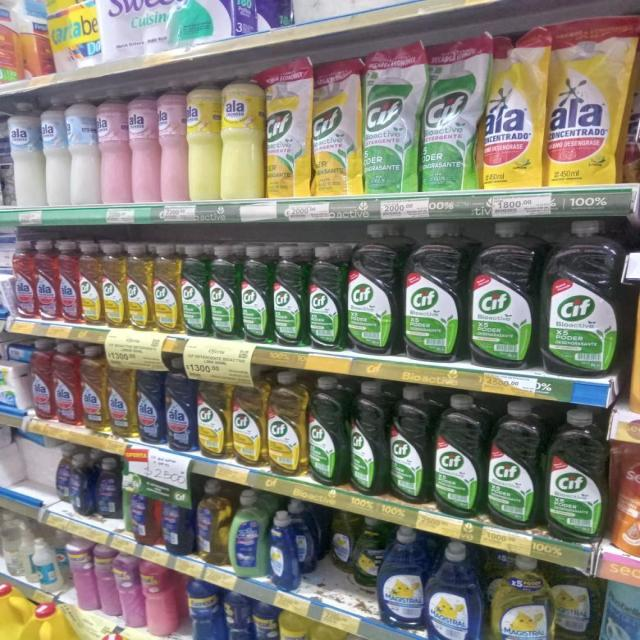ala_conc_amarillo: (108, 350, 135, 440), (80, 346, 107, 434)
ala_conc_azul: (165, 358, 195, 454), (136, 355, 163, 446)
ala_conc_rojo: (53, 342, 79, 427), (29, 341, 52, 422), (13, 240, 35, 320), (36, 240, 57, 322), (59, 240, 78, 324)
ala_crem_amarillo: (221, 69, 263, 200), (187, 74, 220, 202)
ala_crem_blanco: (9, 100, 42, 208), (69, 91, 98, 206), (42, 96, 69, 208), (0, 103, 10, 208)
ala_crem_rosado: (129, 85, 158, 205), (99, 87, 128, 205), (159, 80, 186, 203)
ala_sachet_amarillo: (547, 16, 628, 186), (481, 26, 545, 189)
cif_conc_bot_amarilla: (268, 370, 306, 478), (232, 367, 265, 468), (197, 366, 230, 460), (153, 243, 180, 334), (126, 243, 152, 332), (102, 242, 125, 329), (80, 240, 101, 326)
cif_conc_botella_verde: (541, 218, 622, 377), (468, 220, 536, 370), (403, 222, 464, 363), (546, 408, 608, 542), (486, 400, 541, 530), (347, 224, 400, 356), (433, 393, 484, 518), (389, 385, 431, 505), (308, 376, 348, 488), (350, 379, 387, 497), (308, 244, 345, 352), (273, 244, 306, 348), (241, 245, 271, 344), (209, 244, 239, 340), (181, 244, 208, 338)
cif_conc_sachet_amarillo: (312, 57, 361, 197), (265, 59, 311, 198)
cif_conc_sachet_verde: (421, 34, 480, 192), (363, 42, 419, 195)
magistral_con_amarillo: (490, 554, 550, 640), (552, 565, 599, 640), (329, 511, 354, 574)
magistral_con_azul: (427, 540, 484, 640), (378, 526, 424, 632)
zorro: (230, 488, 266, 578)
